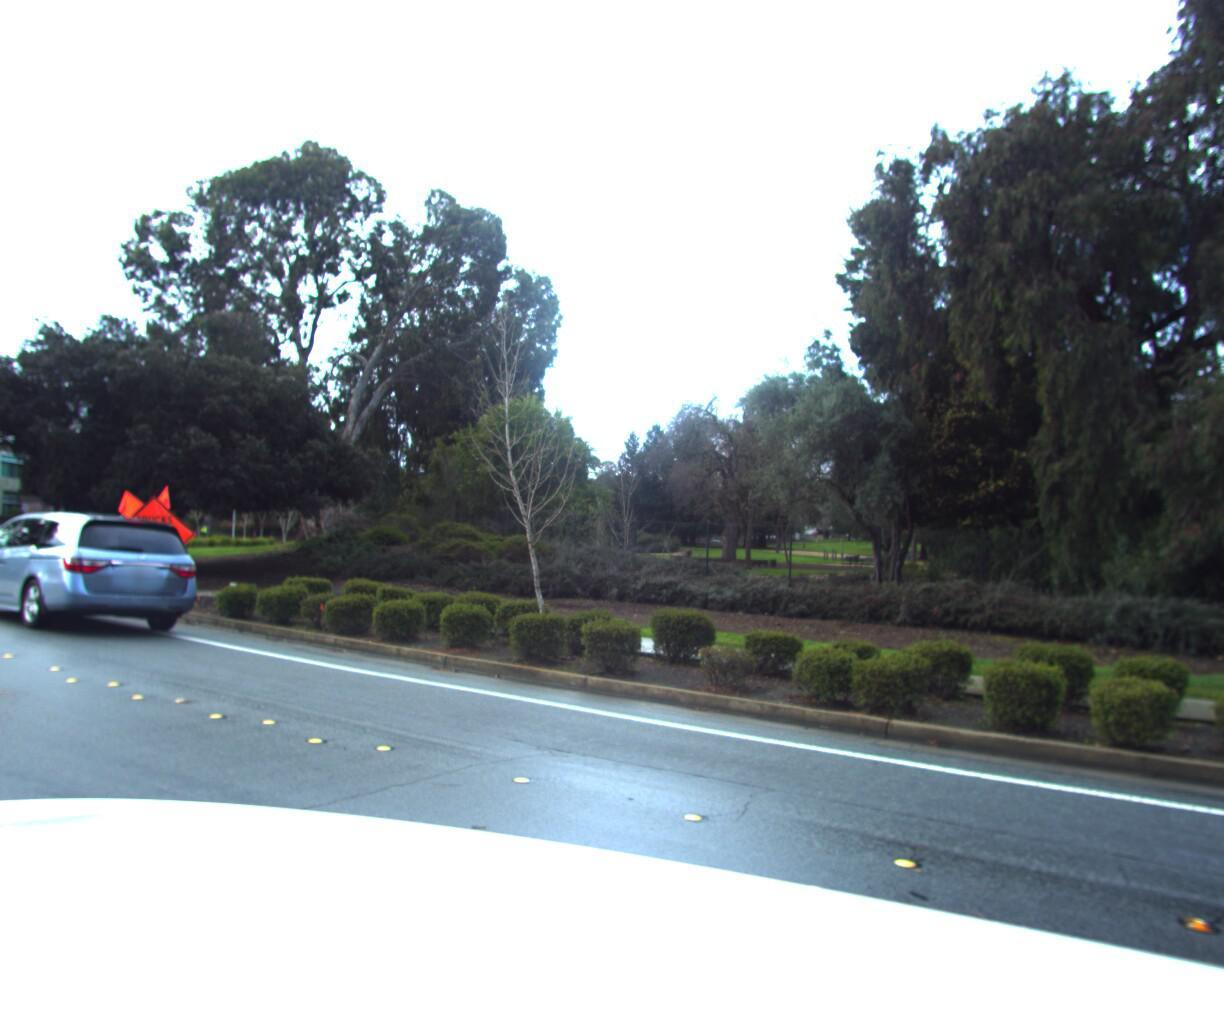car: (0, 513, 208, 644)
